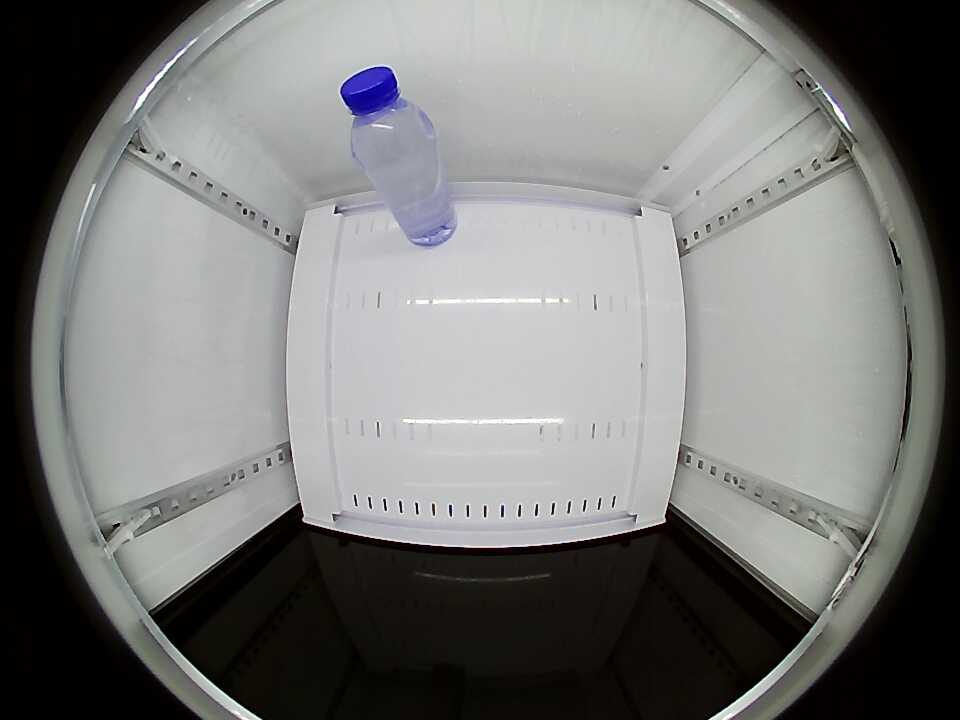aerbeisi: (340, 65, 436, 167)
